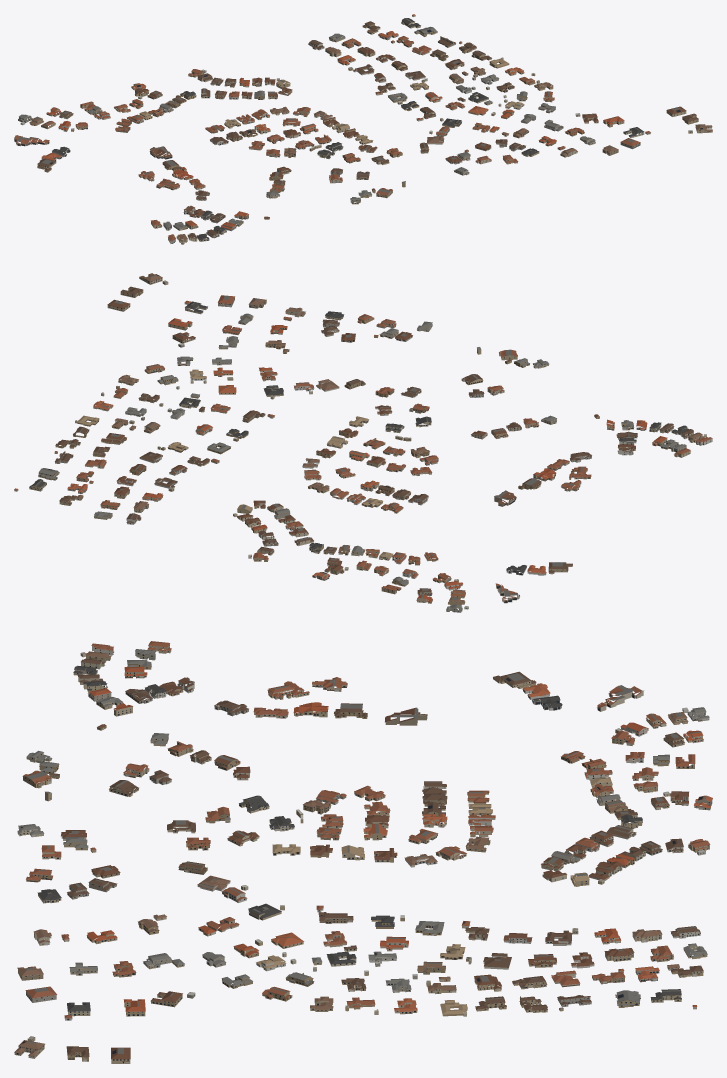
The picture shows the model from 3 angles, top to bottom: view 1: azimuth 30°, elevation 25°; view 2: azimuth 150°, elevation 25°; view 3: azimuth 270°, elevation 25°; orthographic projection. The views are drawn at different scales.
Visible parts, largest first — view 1: buildings_r2_c1_lod0; view 2: buildings_r2_c1_lod0; view 3: buildings_r2_c1_lod0.
Part boxes in pixels (x1,y1,x2,y2): buildings_r2_c1_lod0: (14, 14, 712, 244); buildings_r2_c1_lod0: (14, 273, 712, 612); buildings_r2_c1_lod0: (14, 641, 712, 1063).
Bounding box in the file's own units: 1150 × 95.56 × 813.
